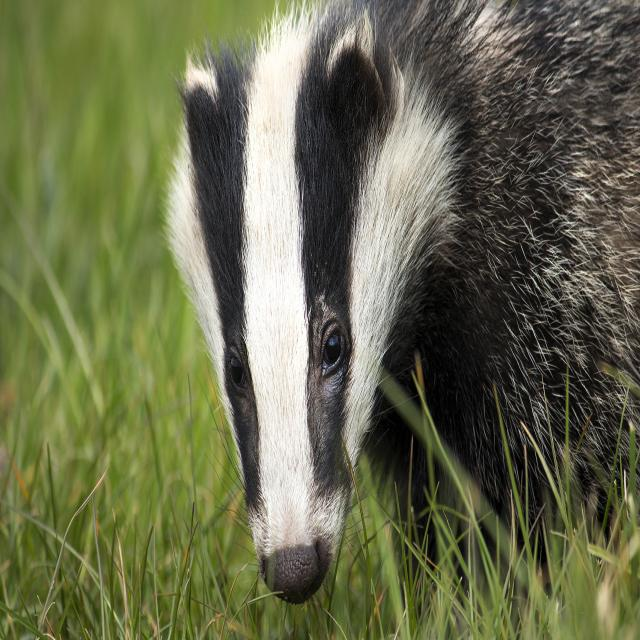Badger: (161, 0, 640, 606)
